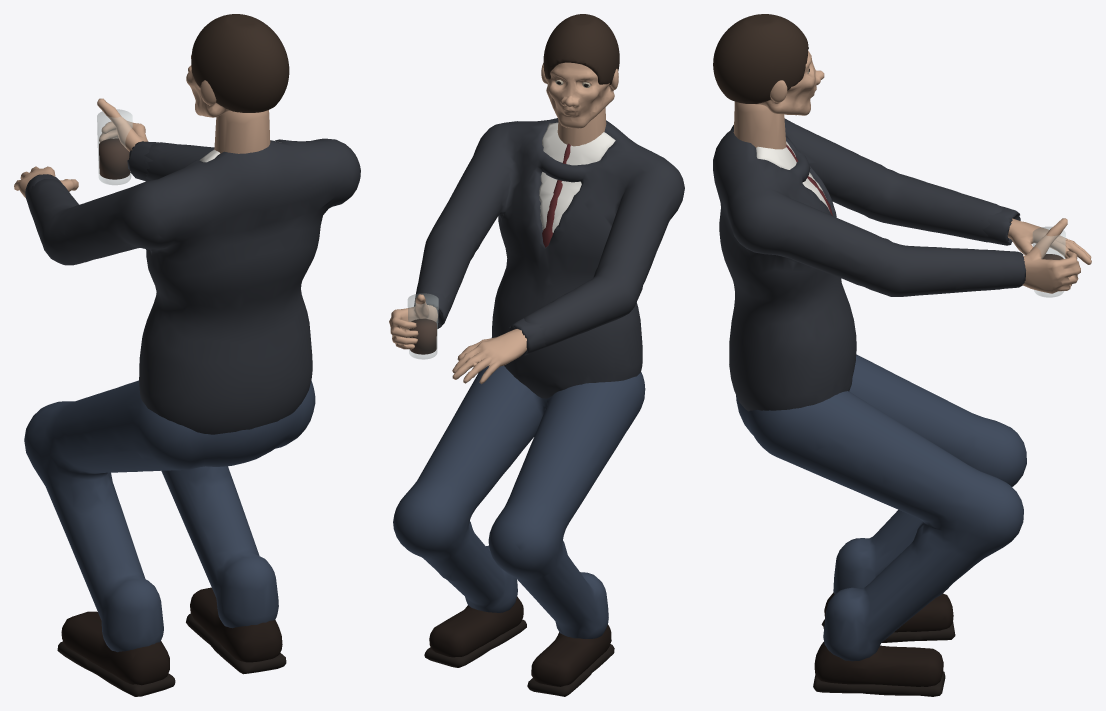
File: goodshoes_bar.glb
The picture shows the model from 3 angles, left to right: view 1: azimuth 30°, elevation 25°; view 2: azimuth 150°, elevation 25°; view 3: azimuth 270°, elevation 25°; orthographic projection. The views are drawn at different scales.
Parts seen in each view (by area): view 1: goodshoes_bar_body, goodshoes_bar_head, goodshoes_bar_hands, tumbler, tumbler_cola; view 2: goodshoes_bar_body, goodshoes_bar_head, goodshoes_bar_hands, tumbler, tumbler_cola; view 3: goodshoes_bar_body, goodshoes_bar_head, goodshoes_bar_hands, tumbler.
Part boxes in pixels (x1,y1,x2,y2): goodshoes_bar_body: (24,110,360,696); goodshoes_bar_head: (186,14,289,117); goodshoes_bar_hands: (14,98,165,203); tumbler: (97,109,132,184); tumbler_cola: (99,138,130,179); goodshoes_bar_body: (393,107,684,696); goodshoes_bar_head: (541,14,619,128); goodshoes_bar_hands: (389,286,548,383); tumbler: (408,293,438,359); tumbler_cola: (409,319,436,354); goodshoes_bar_body: (713,101,1026,696); goodshoes_bar_head: (713,14,824,115); goodshoes_bar_hands: (980,205,1091,293); tumbler: (1033,227,1065,297).
Bounding box in the file's own units: 0.5335 × 1.44 × 0.77.
